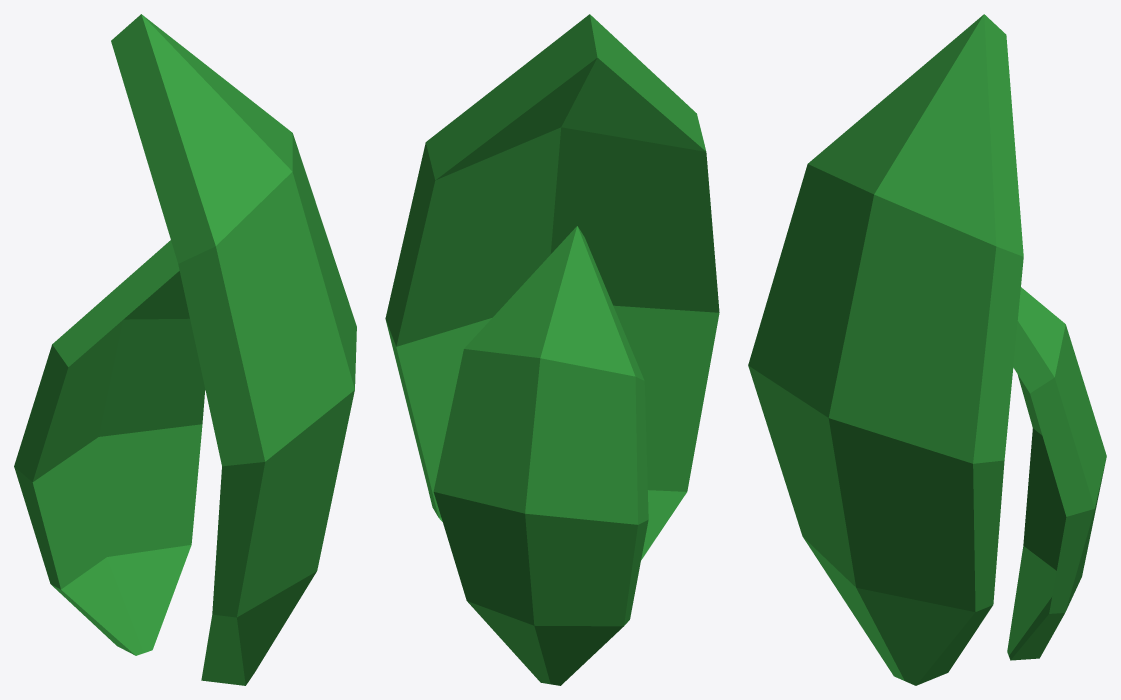
Rendered from Grass_8_Green.fbx.
3 renders of one model, left to right at view 1: azimuth 30°, elevation 25°; view 2: azimuth 150°, elevation 25°; view 3: azimuth 270°, elevation 25°, orthographic. The views are drawn at different scales.
Parts seen in each view (by area): view 1: Grass_8_Green; view 2: Grass_8_Green; view 3: Grass_8_Green.
Part boxes in pixels (x1,y1,x2,y2): Grass_8_Green: (14,14,356,685); Grass_8_Green: (385,14,719,685); Grass_8_Green: (748,14,1106,685).
Size of the model in its own units: 22.62 by 47.35 by 24.25.
